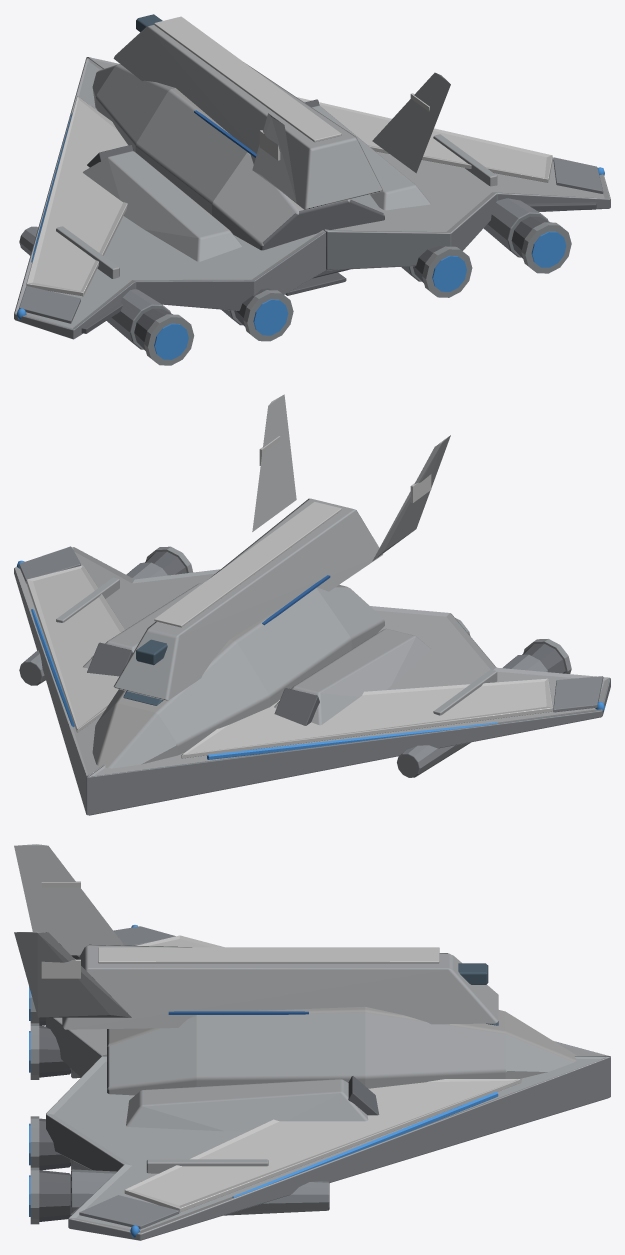
The model's file is lattice_heavy_bomber.glb.
3 renders of one model, top to bottom at view 1: azimuth 30°, elevation 25°; view 2: azimuth 150°, elevation 25°; view 3: azimuth 270°, elevation 25°, orthographic. The views are drawn at different scales.
Visible parts, largest first — view 1: Body; view 2: Body; view 3: Body.
Part boxes in pixels (x1,y1,x2,y2): Body: (14, 14, 610, 365); Body: (14, 394, 610, 815); Body: (14, 844, 610, 1240).
Bounding box in the file's own units: 2.96 × 1.08 × 2.45.
